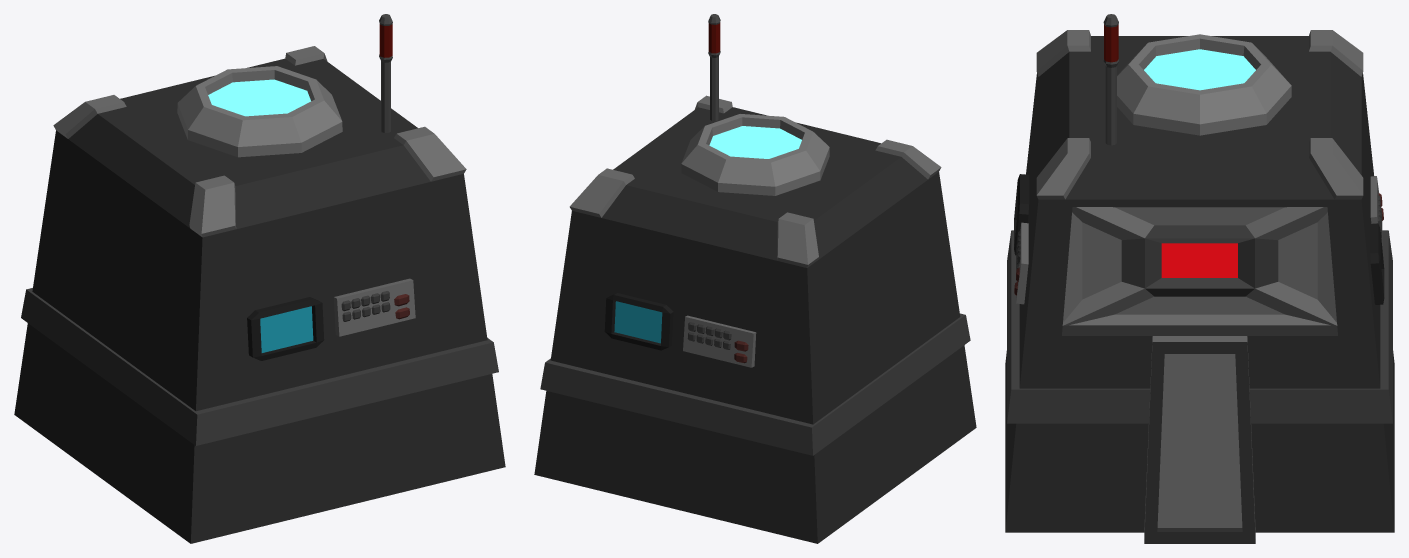
File: SmallDroneSpawner.glb
3 views of the same model, side by side, from view 1: azimuth 30°, elevation 25°; view 2: azimuth 150°, elevation 25°; view 3: azimuth 270°, elevation 25° (orthographic). The views are drawn at different scales.
Visible parts, largest first — view 1: SpawnerBase, Highlight, Emitter, ControlScreen, Keyboard, Antenna, Button; view 2: SpawnerBase, Highlight, Emitter, ControlScreen.001, Keyboard.001, Antenna, Button.003; view 3: SpawnerBase, SpawnerDoor, Emitter, Highlight, Antenna, ControlScreen.001, ControlScreen, Keyboard.
Boxes of the visible parts, x1=… form: SpawnerBase: x1=14, y1=46, x2=505, y2=543; Highlight: x1=21, y1=288, x2=498, y2=445; Emitter: x1=177, y1=66, x2=342, y2=157; ControlScreen: x1=247, y1=297, x2=324, y2=360; Keyboard: x1=333, y1=278, x2=415, y2=336; Antenna: x1=379, y1=14, x2=392, y2=132; Button: x1=341, y1=291, x2=390, y2=321; SpawnerBase: x1=534, y1=95, x2=976, y2=543; Highlight: x1=540, y1=313, x2=970, y2=455; Emitter: x1=681, y1=114, x2=829, y2=195; ControlScreen.001: x1=604, y1=293, x2=673, y2=350; Keyboard.001: x1=683, y1=315, x2=756, y2=367; Antenna: x1=708, y1=14, x2=720, y2=121; Button.003: x1=687, y1=322, x2=731, y2=349; SpawnerBase: x1=1005, y1=30, x2=1394, y2=543; SpawnerDoor: x1=1062, y1=207, x2=1337, y2=325; Emitter: x1=1117, y1=34, x2=1291, y2=135; Highlight: x1=1007, y1=230, x2=1392, y2=423; Antenna: x1=1103, y1=14, x2=1118, y2=145; ControlScreen.001: x1=1370, y1=223, x2=1384, y2=304; ControlScreen: x1=1014, y1=174, x2=1029, y2=255; Keyboard: x1=1016, y1=222, x2=1028, y2=304.
Size of the model in its own units: 7.14 by 8.73 by 6.44.
